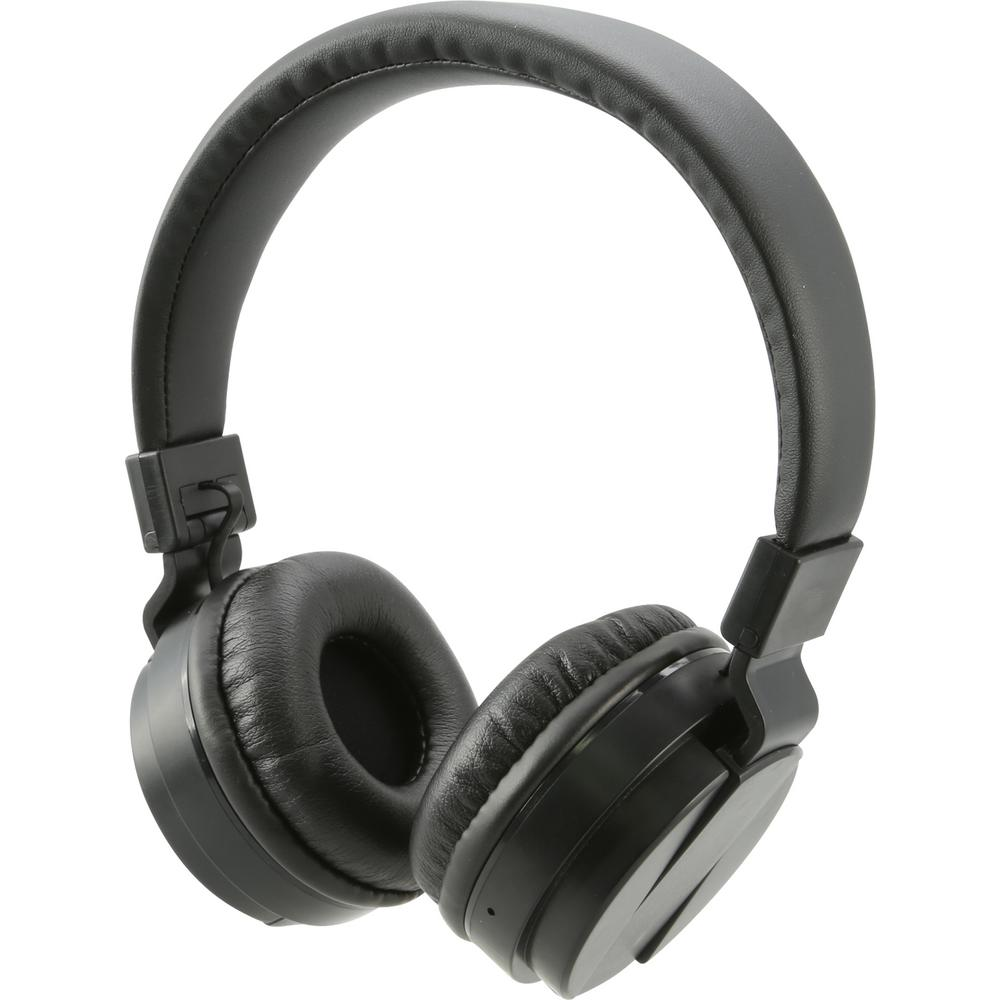Headphone: (118, 4, 889, 1000)
